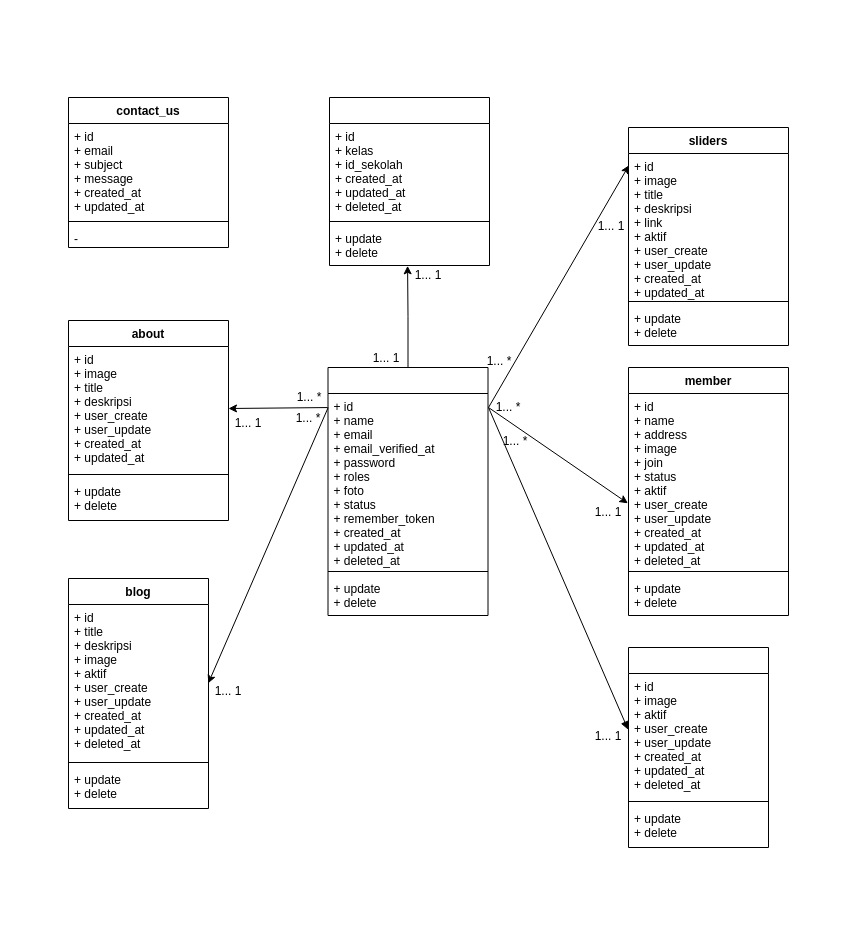
Some shapes in this 847 by 934 pixel diagram are drawn without their labels. Each missing label, with the box of its shape:
galery: (628, 646, 768, 848)
setting: (328, 96, 490, 266)
users: (327, 366, 488, 616)
